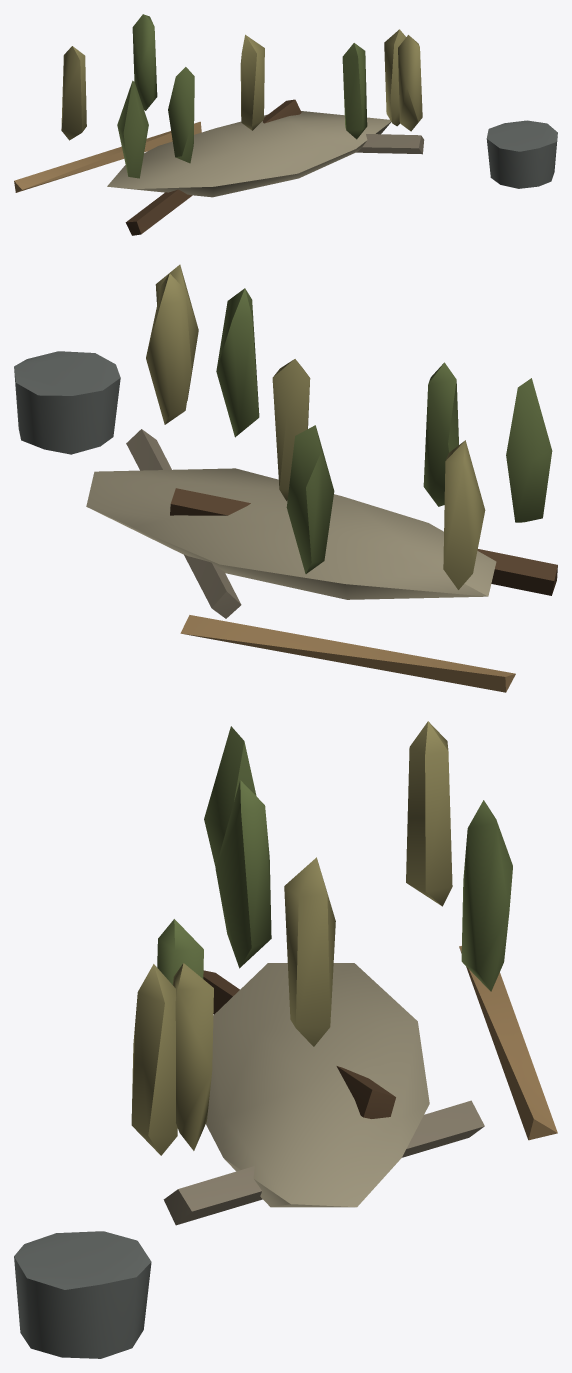
The model's file is fish_rack_c_lod2.glb.
3 renders of one model, top to bottom at view 1: azimuth 30°, elevation 25°; view 2: azimuth 150°, elevation 25°; view 3: azimuth 270°, elevation 25°, orthographic. The views are drawn at different scales.
Visible parts, largest first — view 1: Surface.001; view 2: Surface.001; view 3: Surface.001.
Boxes of the visible parts, x1=… form: Surface.001: x1=14, y1=14, x2=557, y2=235; Surface.001: x1=14, y1=264, x2=557, y2=692; Surface.001: x1=14, y1=721, x2=557, y2=1358.
Size of the model in its own units: 4.08 by 1.38 by 2.36.
